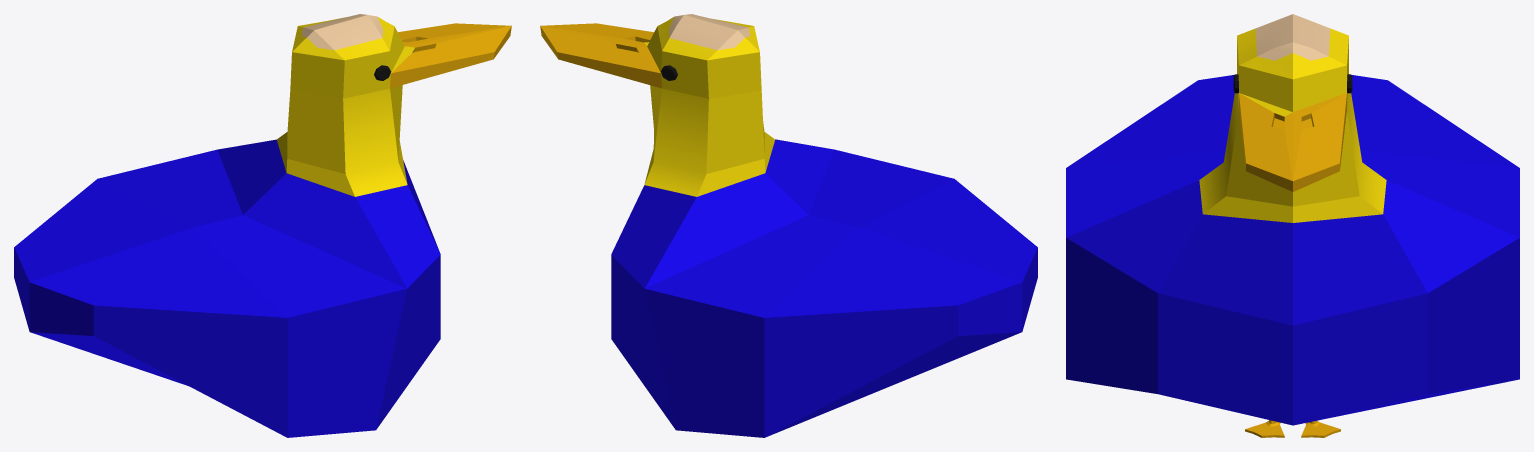
File: patoel.fbx
The picture shows the model from 3 angles, left to right: view 1: azimuth 30°, elevation 25°; view 2: azimuth 150°, elevation 25°; view 3: azimuth 270°, elevation 25°; orthographic projection. The views are drawn at different scales.
Parts seen in each view (by area): view 1: Duck_01; view 2: Duck_01; view 3: Duck_01.
Boxes of the visible parts, x1=… form: Duck_01: x1=14, y1=14, x2=511, y2=437; Duck_01: x1=540, y1=14, x2=1037, y2=437; Duck_01: x1=1066, y1=14, x2=1519, y2=437.
Size of the model in its own units: 1467 by 1078 by 1001.
